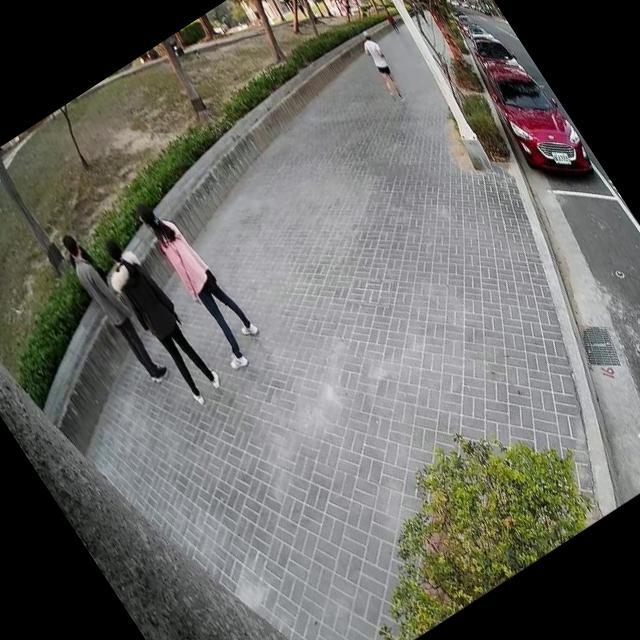person: (122, 179, 276, 379), (86, 225, 230, 414), (50, 224, 173, 392), (348, 22, 414, 108), (410, 0, 433, 29), (381, 7, 402, 34)
